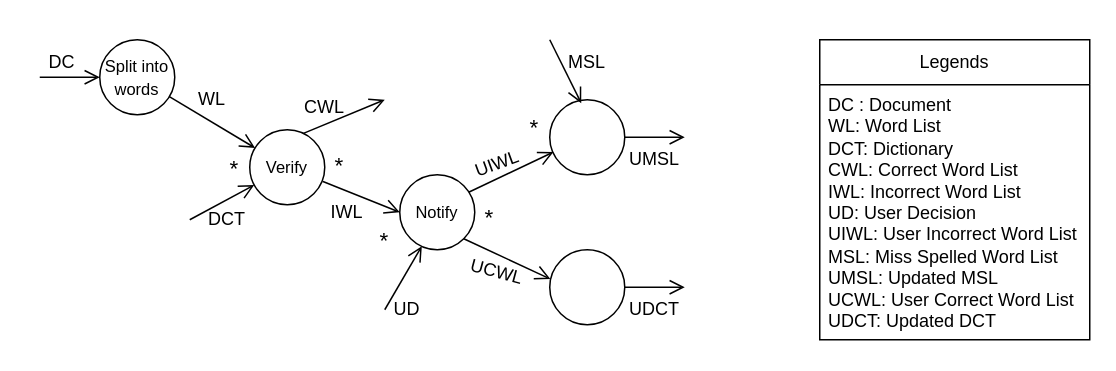
Image size: 1116x371. Some labels were removed from this diagram. Here are the shapes that lost their labels. From the top down, the centre of each, then its label:
the point at 586,136: Update MSL
the point at 586,286: Update DC
